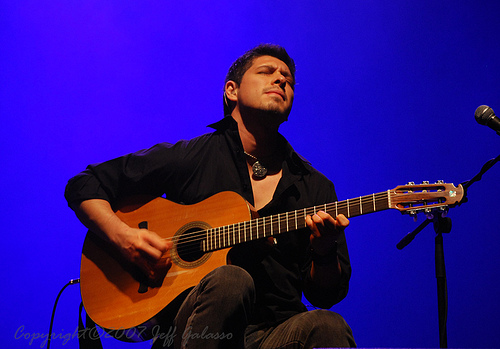guitar: (86, 180, 467, 348)
